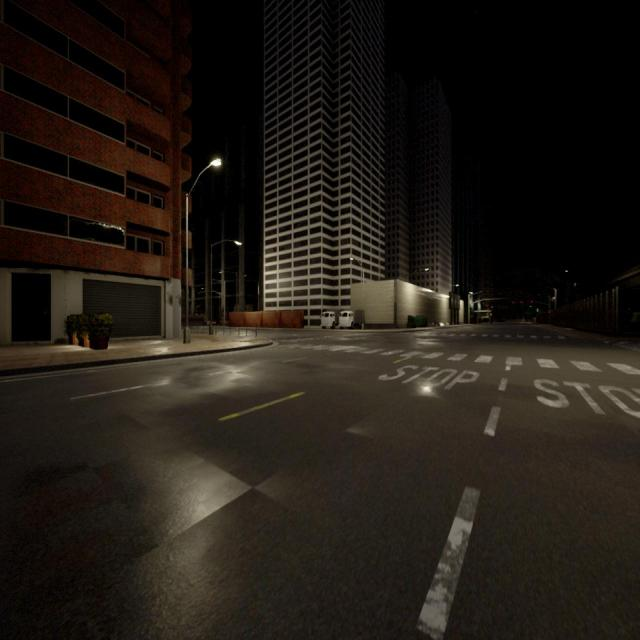Vehicle: (339, 310, 365, 330), (321, 310, 339, 330)
traffic_light: (530, 300, 534, 304), (520, 300, 523, 304), (512, 300, 515, 304), (222, 306, 224, 312), (548, 310, 550, 314)
